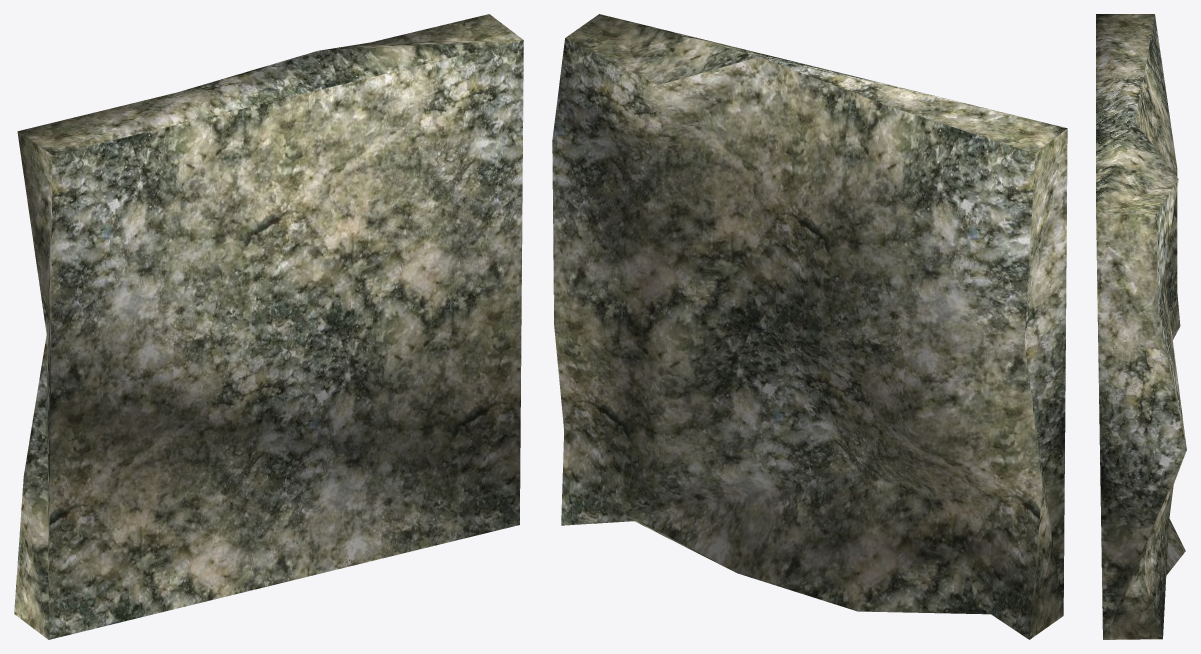
File: wall_cave_rev.obj
3 views of the same model, side by side, from view 1: azimuth 30°, elevation 25°; view 2: azimuth 150°, elevation 25°; view 3: azimuth 270°, elevation 25° (orthographic). The views are drawn at different scales.
Size of the model in its own units: 2.03 by 2.07 by 0.3785.
